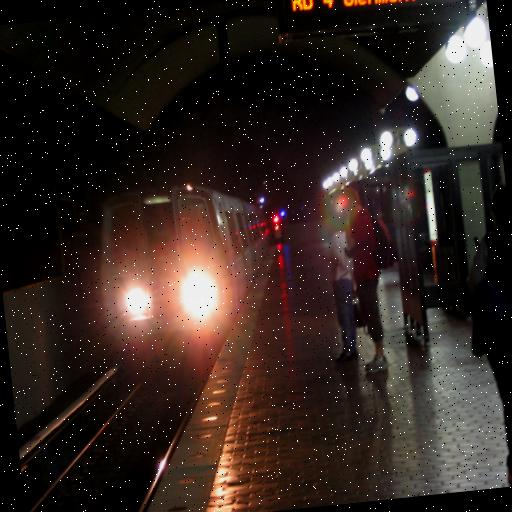platform_edge: (116, 285, 258, 512)
